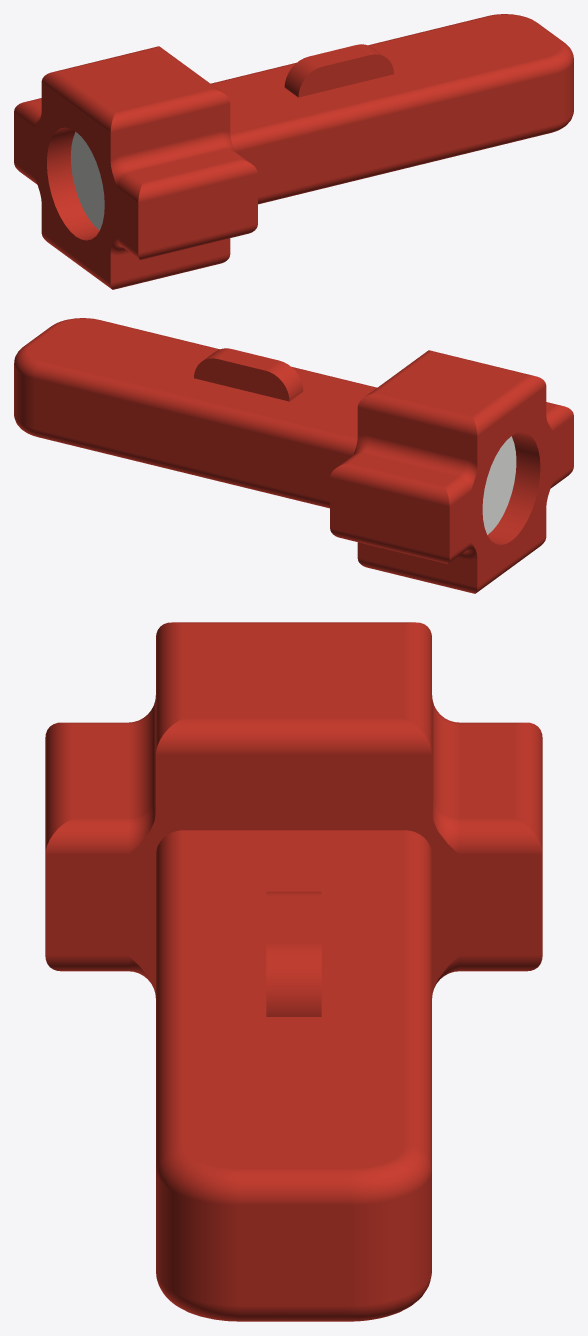
Rendered from flashlight v2.fbx.
3 renders of one model, top to bottom at view 1: azimuth 30°, elevation 25°; view 2: azimuth 150°, elevation 25°; view 3: azimuth 270°, elevation 25°, orthographic. The views are drawn at different scales.
Parts seen in each view (by area): view 1: Body1; view 2: Body1; view 3: Body1.
Boxes of the visible parts, x1=… form: Body1: x1=14, y1=14, x2=573, y2=289; Body1: x1=14, y1=318, x2=573, y2=593; Body1: x1=45, y1=622, x2=542, y2=1321.
Bounding box in the file's own units: 100 × 35 × 45.
